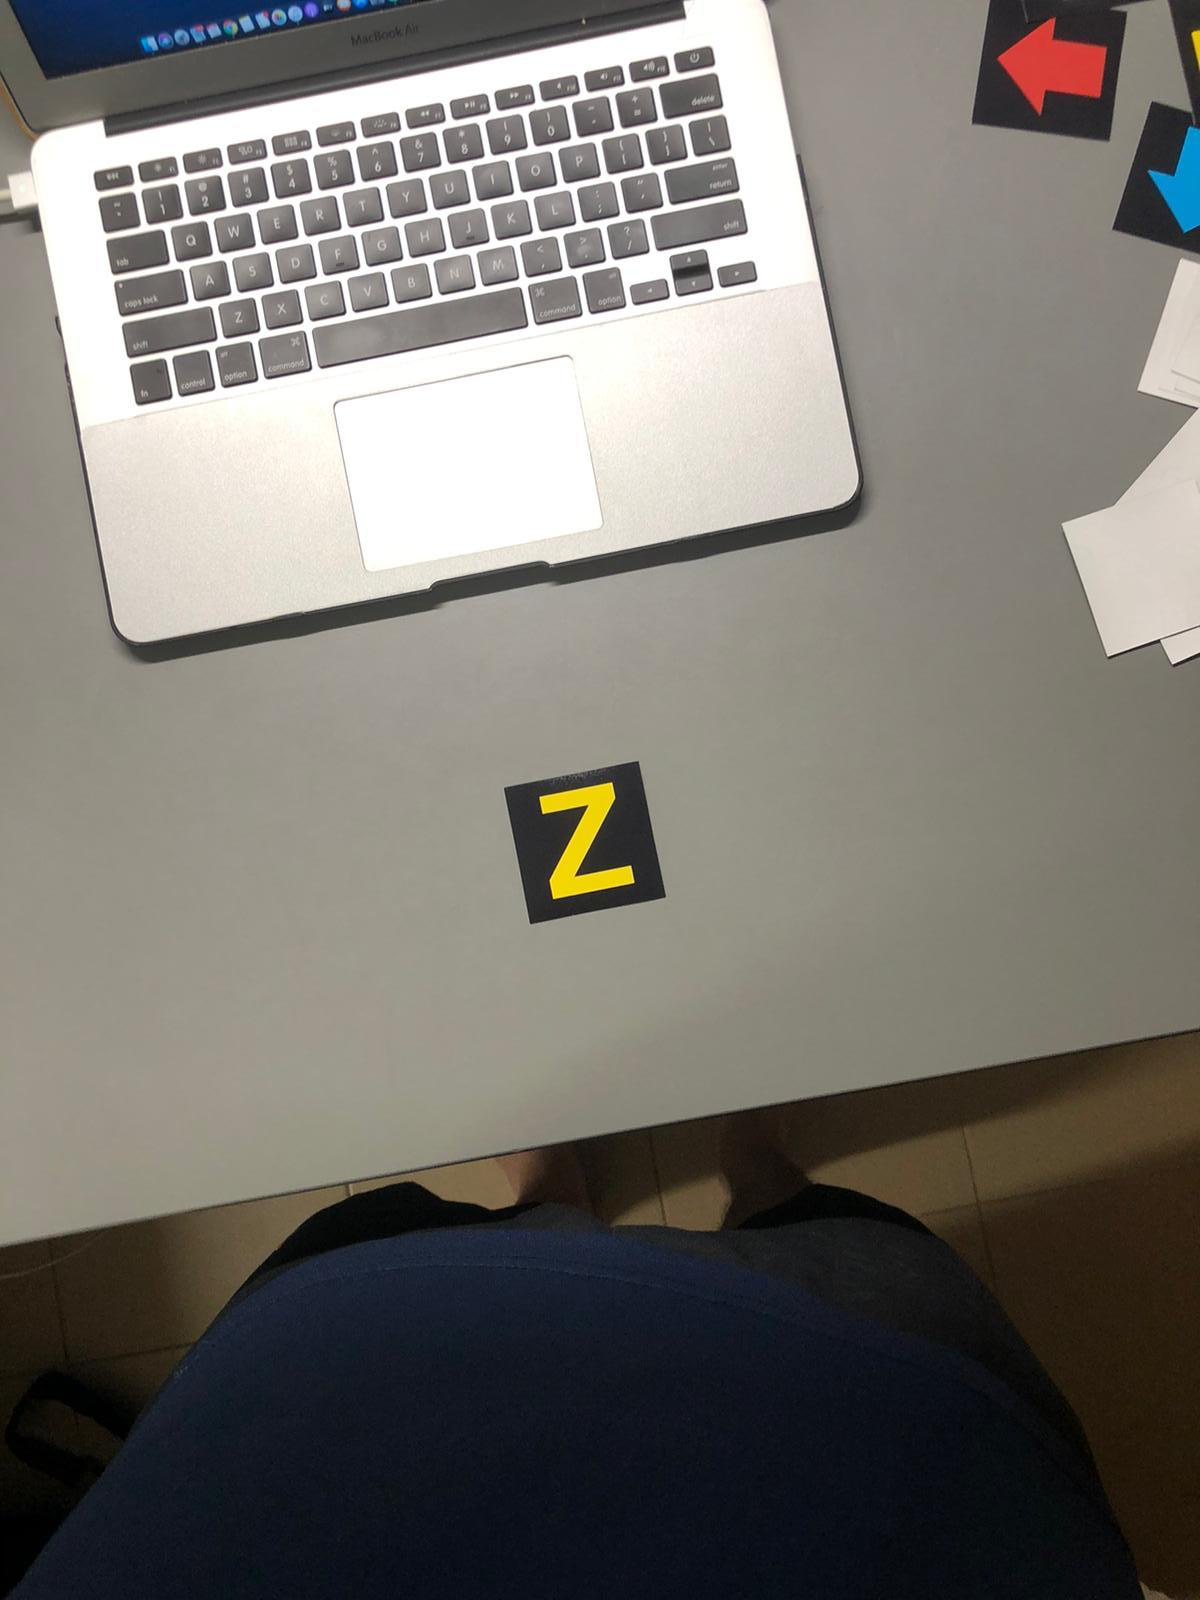Z: (516, 771, 649, 922)
